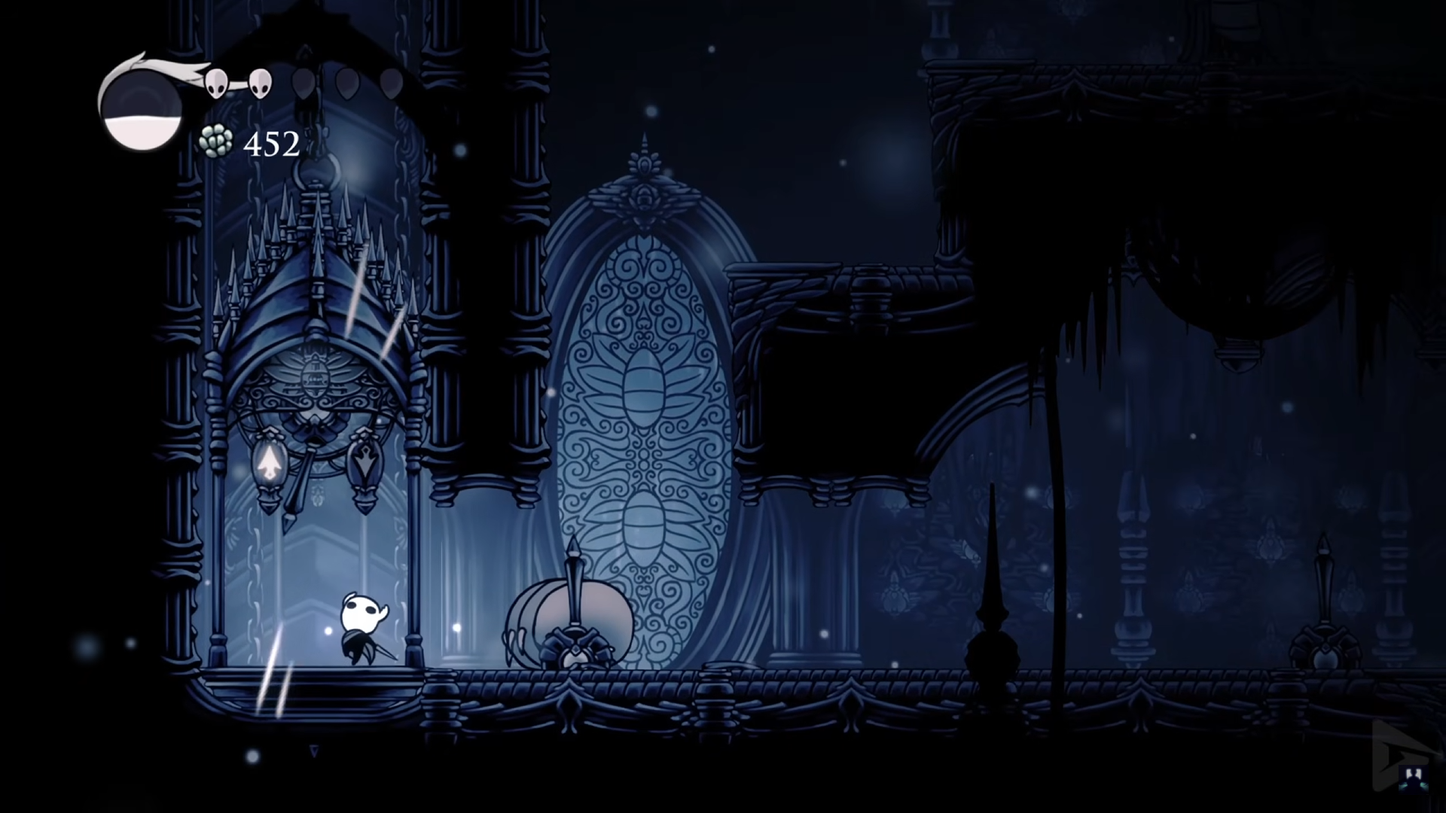HK: (334, 587, 391, 667)
